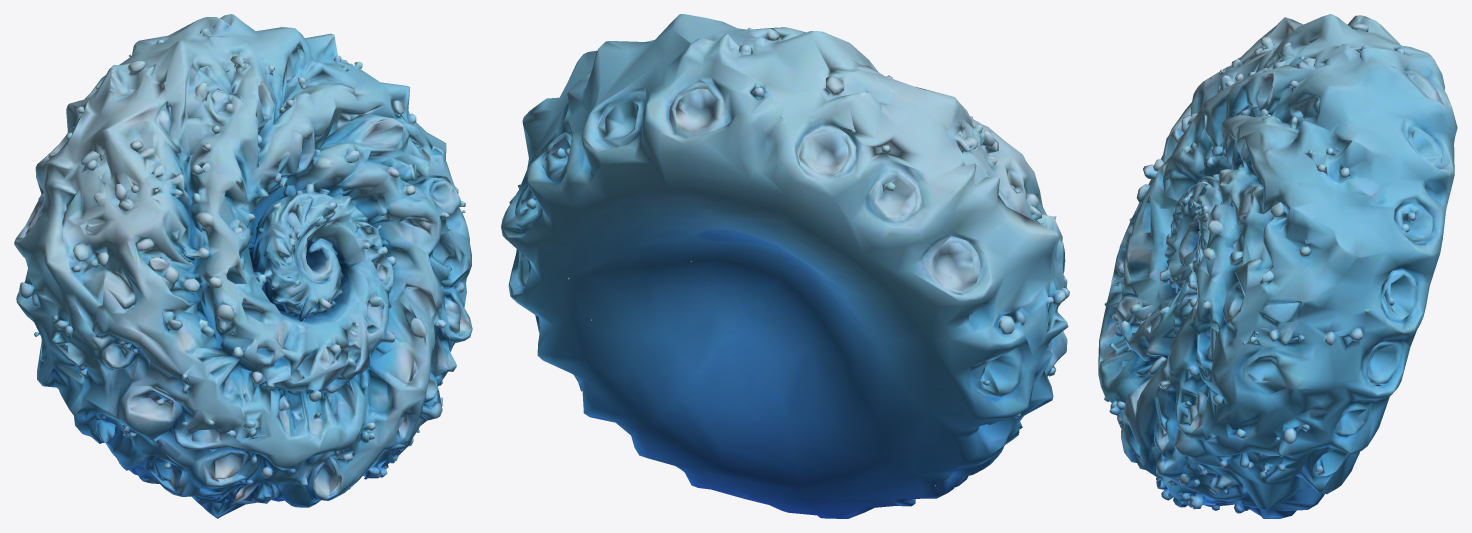
The model's file is ice_lance.glb.
The picture shows the model from 3 angles, left to right: view 1: azimuth 30°, elevation 25°; view 2: azimuth 150°, elevation 25°; view 3: azimuth 270°, elevation 25°; orthographic projection. The views are drawn at different scales.
Parts seen in each view (by area): view 1: tripo_node_6377cc4a-578e-47e4-8906-d9e1e4fff59d; view 2: tripo_node_6377cc4a-578e-47e4-8906-d9e1e4fff59d; view 3: tripo_node_6377cc4a-578e-47e4-8906-d9e1e4fff59d.
Part boxes in pixels (x1,y1,x2,y2): tripo_node_6377cc4a-578e-47e4-8906-d9e1e4fff59d: (14, 14, 472, 518); tripo_node_6377cc4a-578e-47e4-8906-d9e1e4fff59d: (501, 14, 1069, 518); tripo_node_6377cc4a-578e-47e4-8906-d9e1e4fff59d: (1098, 14, 1457, 518).
Size of the model in its own units: 0.9791 by 0.9415 by 0.6781.
1 material, 1 textured.
